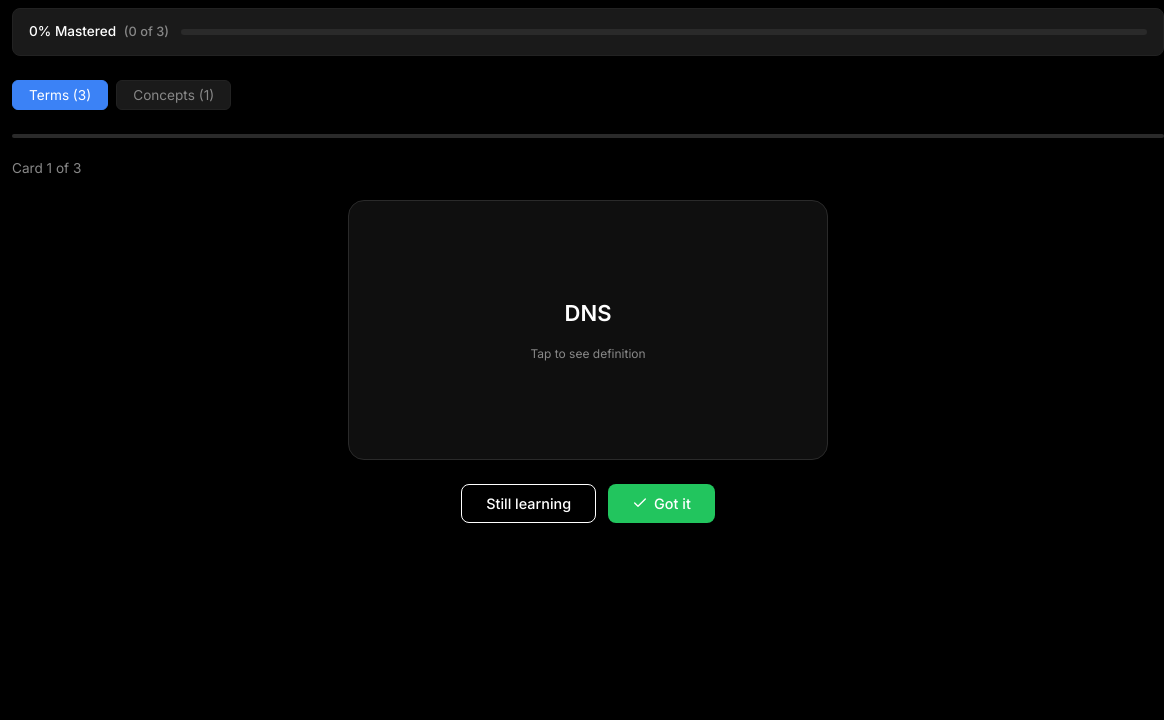
Flashcard Component › advances card when "Got it" is clicked
The width and height of the screenshot is (1164, 720).
Expected: the text "Card 1 of 3" is shown, [12,160,81,176]
Note: Click "Got it"
Click the button "Got it" at (661, 503), box [608,484,715,522]
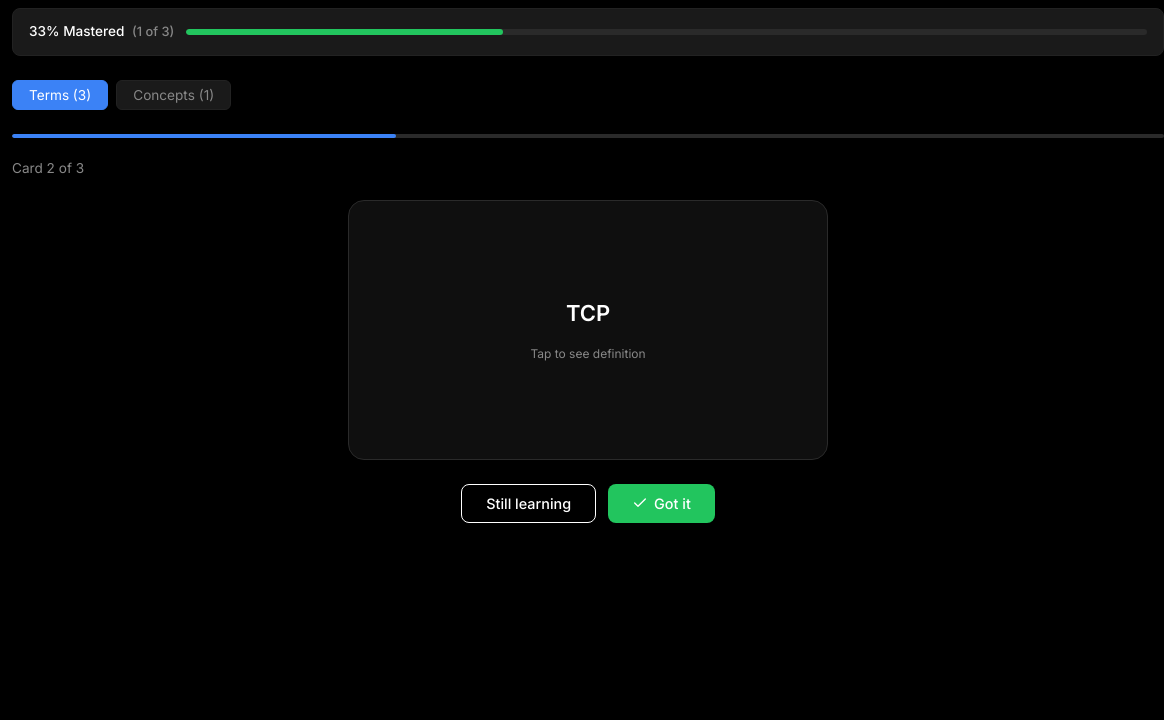
Expected: the text "33% Mastered (1 of 3)" is shown, [29,21,174,43]
